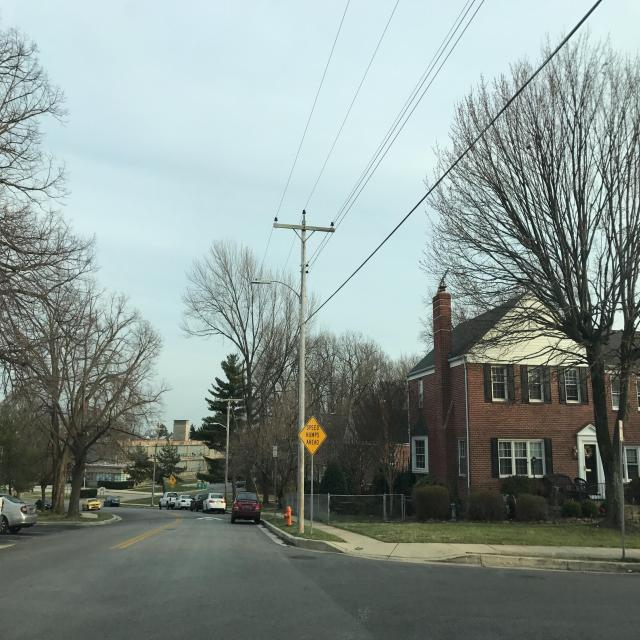Good: (290, 554, 320, 562)
